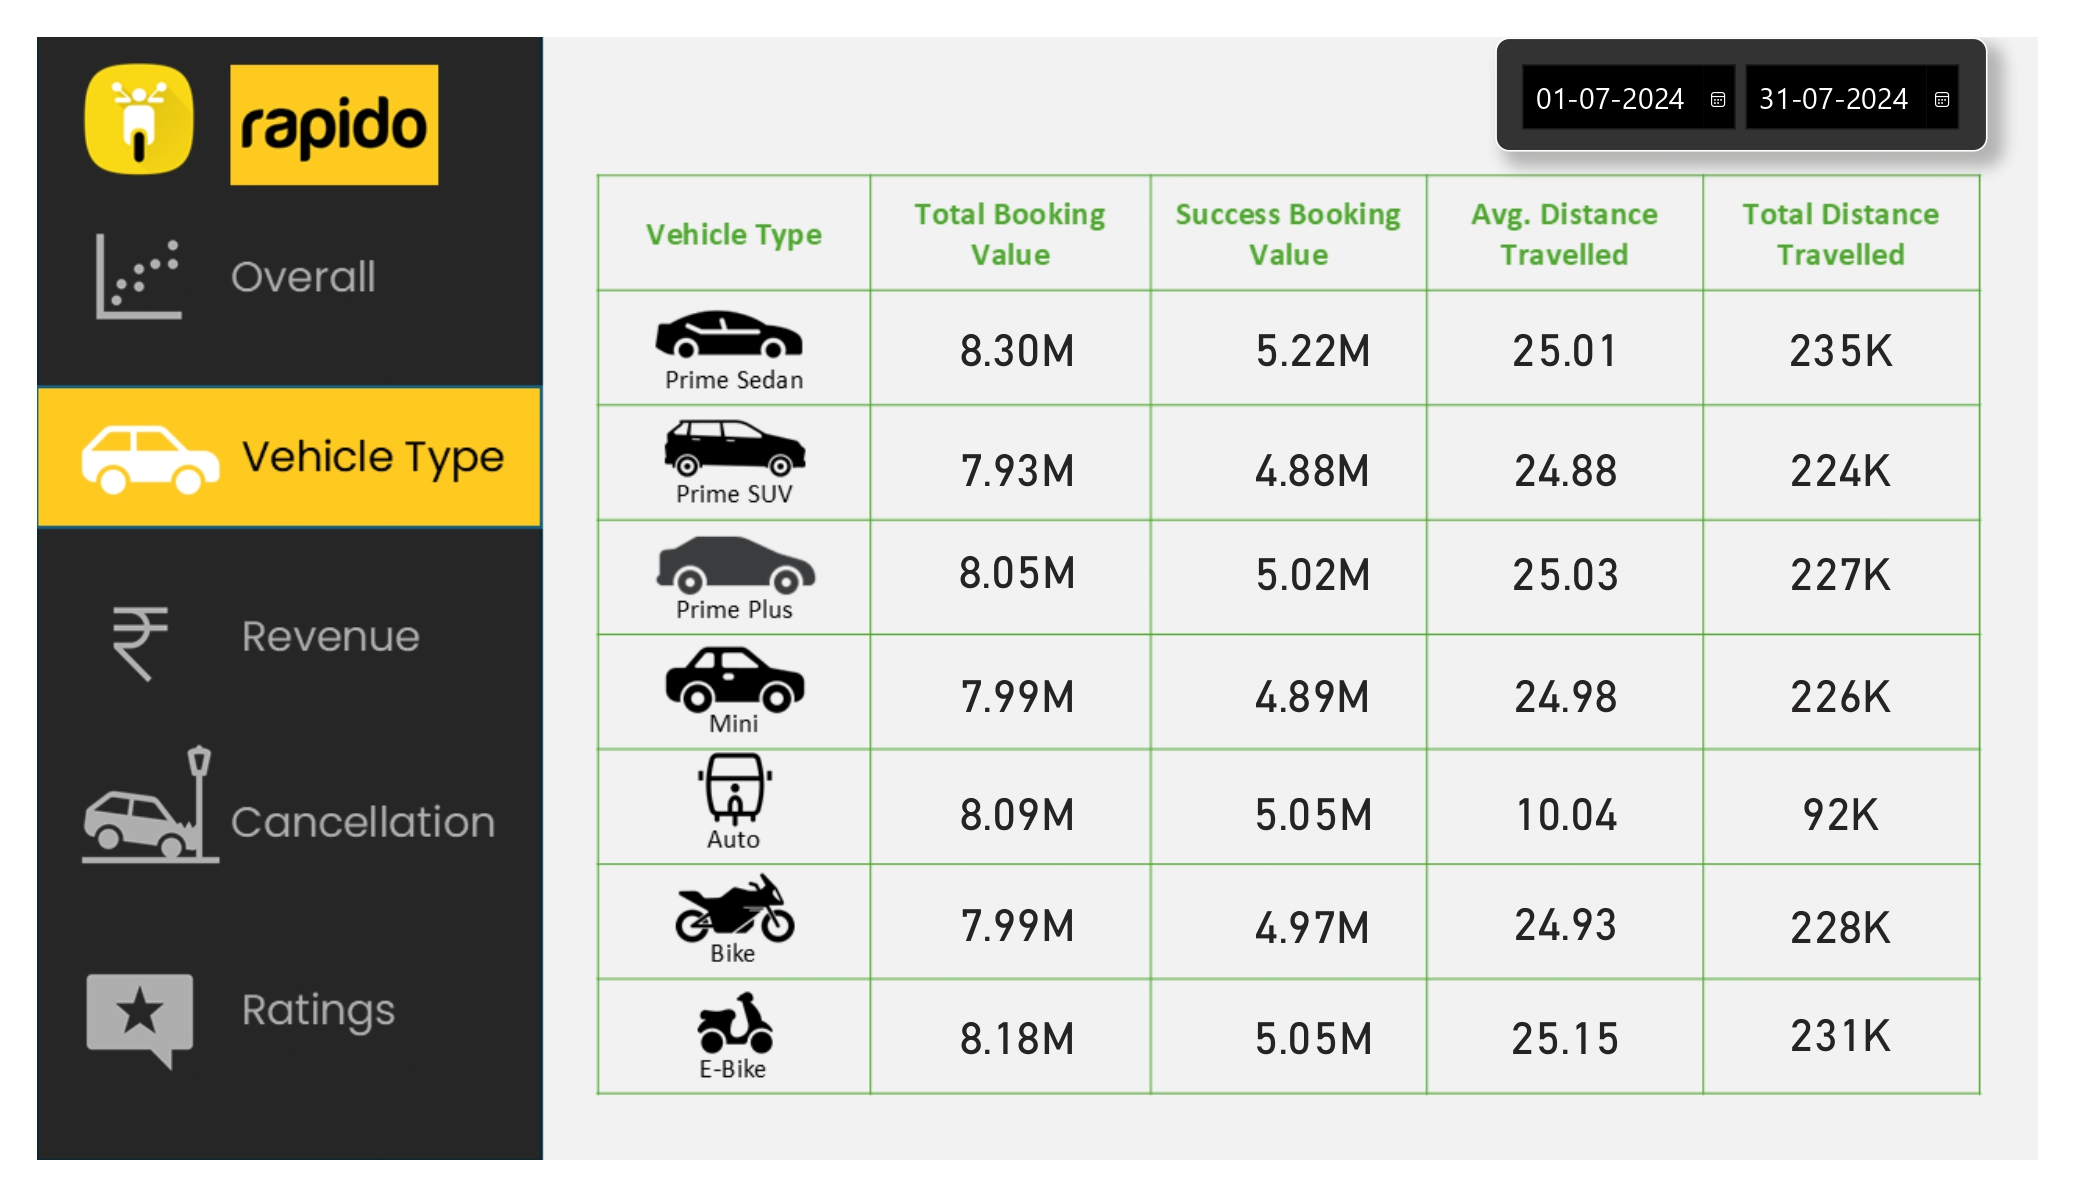

This screenshot's page, from the dashboard's own definition file:
{"tool":"powerbi","page":{"name":"Vehicle-Type","canvas":[1280,720],"ordinal":1},"visuals":[{"type":"card","fields":{"Values":["Sum(July.Booking_Value)"]},"box":[546.2,166.3,161.9,65.1],"z":0},{"type":"card","fields":{"Values":["Sum(July.Booking_Value)"]},"box":[546.2,242.4,161.9,65.1],"z":1000},{"type":"card","fields":{"Values":["Sum(July.Booking_Value)"]},"box":[546.2,307.5,161.9,65.1],"z":2000},{"type":"card","fields":{"Values":["Sum(July.Booking_Value)"]},"box":[546.2,386.9,161.9,65.1],"z":3000},{"type":"card","fields":{"Values":["Sum(July.Booking_Value)"]},"box":[546.2,463.1,161.9,65.1],"z":4000},{"type":"card","fields":{"Values":["Sum(July.Booking_Value)"]},"box":[546.2,539.3,161.9,54],"z":5000},{"type":"card","fields":{"Values":["Sum(July.Booking_Value)"]},"box":[546.2,605.9,161.9,65.1],"z":6000},{"type":"card","fields":{"Values":["Sum(July.Booking_Value)"]},"box":[735.1,166.3,161.9,65.1],"z":7000},{"type":"card","fields":{"Values":["Sum(July.Booking_Value)"]},"box":[735.1,242.4,161.9,65.1],"z":8000},{"type":"card","fields":{"Values":["Sum(July.Booking_Value)"]},"box":[735.1,309.1,161.9,65.1],"z":9000},{"type":"card","fields":{"Values":["Sum(July.Booking_Value)"]},"box":[735.1,386.9,161.9,65.1],"z":10000},{"type":"card","fields":{"Values":["Sum(July.Booking_Value)"]},"box":[735.1,463.1,161.9,65.1],"z":11000},{"type":"card","fields":{"Values":["Sum(July.Booking_Value)"]},"box":[735.1,534.5,161.9,65.1],"z":12000},{"type":"card","fields":{"Values":["Sum(July.Booking_Value)"]},"box":[735.1,605.9,161.9,65.1],"z":13000},{"type":"card","fields":{"Values":["Avg(July.Ride_Distance)"]},"box":[897,166.3,161.9,65.1],"z":14000},{"type":"card","fields":{"Values":["Avg(July.Ride_Distance)"]},"box":[897,242.4,161.9,65.1],"z":15000},{"type":"card","fields":{"Values":["Avg(July.Ride_Distance)"]},"box":[897,309.1,161.9,65.1],"z":16000},{"type":"card","fields":{"Values":["Avg(July.Ride_Distance)"]},"box":[897,386.9,161.9,65.1],"z":17000},{"type":"card","fields":{"Values":["Avg(July.Ride_Distance)"]},"box":[897,463.1,161.9,65.1],"z":18000},{"type":"card","fields":{"Values":["Avg(July.Ride_Distance)"]},"box":[897,532.9,161.9,65.1],"z":19000},{"type":"card","fields":{"Values":["Avg(July.Ride_Distance)"]},"box":[897,605.9,161.9,65.1],"z":20000},{"type":"card","fields":{"Values":["Sum(July.Ride_Distance)"]},"box":[1073.2,166.3,161.9,65.1],"z":21000},{"type":"card","fields":{"Values":["Sum(July.Ride_Distance)"]},"box":[1073.2,242.4,161.9,65.1],"z":22000},{"type":"card","fields":{"Values":["Sum(July.Ride_Distance)"]},"box":[1073.2,309.1,161.9,65.1],"z":23000},{"type":"card","fields":{"Values":["Sum(July.Ride_Distance)"]},"box":[1073.2,386.9,161.9,65.1],"z":24000},{"type":"card","fields":{"Values":["Sum(July.Ride_Distance)"]},"box":[1073.2,463.1,161.9,65.1],"z":25000},{"type":"card","fields":{"Values":["Sum(July.Ride_Distance)"]},"box":[1073.2,534.5,161.9,65.1],"z":26000},{"type":"card","fields":{"Values":["Sum(July.Ride_Distance)"]},"box":[1073.2,604.4,161.9,65.1],"z":27000},{"type":"slicer","title":"Date","fields":{"Values":["July.Date"]},"box":[932.8,0,315,72.7],"z":28000}]}

Visuals, with their boxes on the page's 1280x720 design canvas (x1, y1, x2, y2). These are canvas units, not pixel positions in the 2075x1200 screenshot, which may show the page scaled, cropped or inside an application window:
card - Sum(July.Booking_Value): [546,166,708,231]
card - Sum(July.Booking_Value): [546,242,708,308]
card - Sum(July.Booking_Value): [546,308,708,373]
card - Sum(July.Booking_Value): [546,387,708,452]
card - Sum(July.Booking_Value): [546,463,708,528]
card - Sum(July.Booking_Value): [546,539,708,593]
card - Sum(July.Booking_Value): [546,606,708,671]
card - Sum(July.Booking_Value): [735,166,897,231]
card - Sum(July.Booking_Value): [735,242,897,308]
card - Sum(July.Booking_Value): [735,309,897,374]
card - Sum(July.Booking_Value): [735,387,897,452]
card - Sum(July.Booking_Value): [735,463,897,528]
card - Sum(July.Booking_Value): [735,534,897,600]
card - Sum(July.Booking_Value): [735,606,897,671]
card - Avg(July.Ride_Distance): [897,166,1059,231]
card - Avg(July.Ride_Distance): [897,242,1059,308]
card - Avg(July.Ride_Distance): [897,309,1059,374]
card - Avg(July.Ride_Distance): [897,387,1059,452]
card - Avg(July.Ride_Distance): [897,463,1059,528]
card - Avg(July.Ride_Distance): [897,533,1059,598]
card - Avg(July.Ride_Distance): [897,606,1059,671]
card - Sum(July.Ride_Distance): [1073,166,1235,231]
card - Sum(July.Ride_Distance): [1073,242,1235,308]
card - Sum(July.Ride_Distance): [1073,309,1235,374]
card - Sum(July.Ride_Distance): [1073,387,1235,452]
card - Sum(July.Ride_Distance): [1073,463,1235,528]
card - Sum(July.Ride_Distance): [1073,534,1235,600]
card - Sum(July.Ride_Distance): [1073,604,1235,670]
"Date" slicer: [933,0,1248,73]
